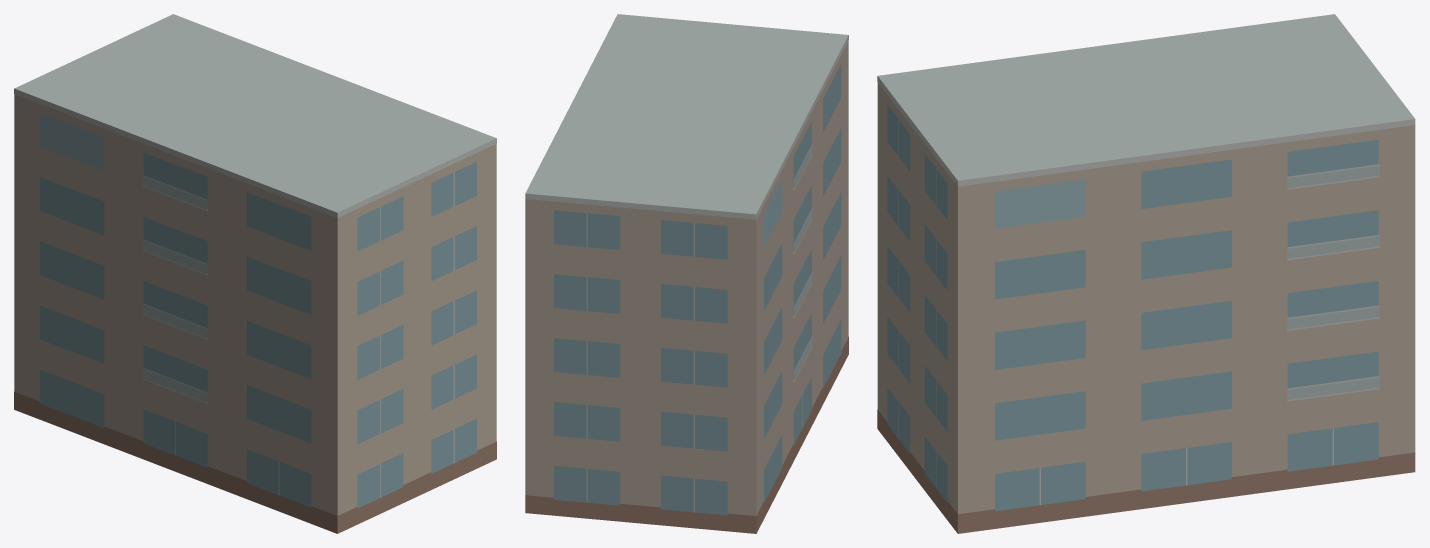
The model's file is survey-upis-32619678.glb.
3 views of the same model, side by side, from view 1: azimuth 30°, elevation 25°; view 2: azimuth 150°, elevation 25°; view 3: azimuth 270°, elevation 25° (orthographic). The views are drawn at different scales.
Parts seen in each view (by area): view 1: survey-upis-32619678.tmp; view 2: survey-upis-32619678.tmp; view 3: survey-upis-32619678.tmp.
Part boxes in pixels (x1,y1,x2,y2): survey-upis-32619678.tmp: (14,14,496,533); survey-upis-32619678.tmp: (525,14,848,533); survey-upis-32619678.tmp: (877,14,1415,533).
Bounding box in the file's own units: 14.6 × 14.4 × 19.89.
